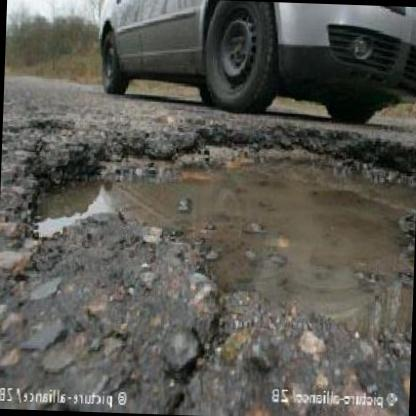pothole: (14, 109, 416, 361)
